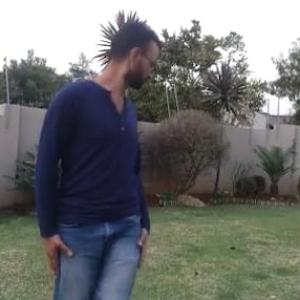follow: (30, 2, 162, 299)
